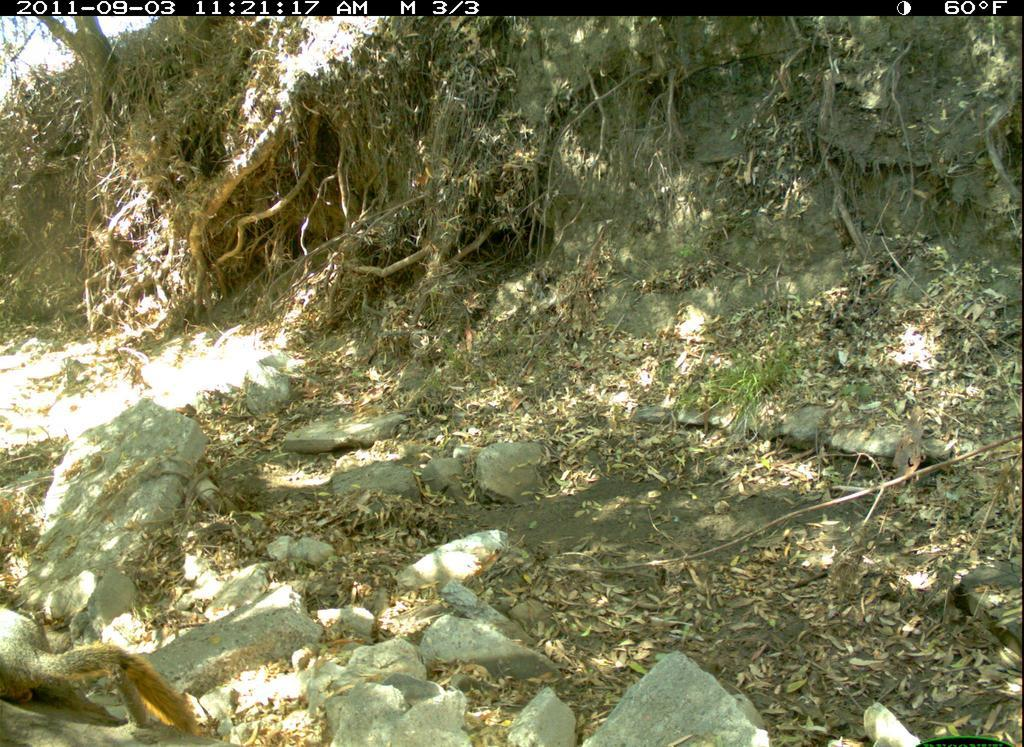squirrel: (11, 612, 208, 740)
